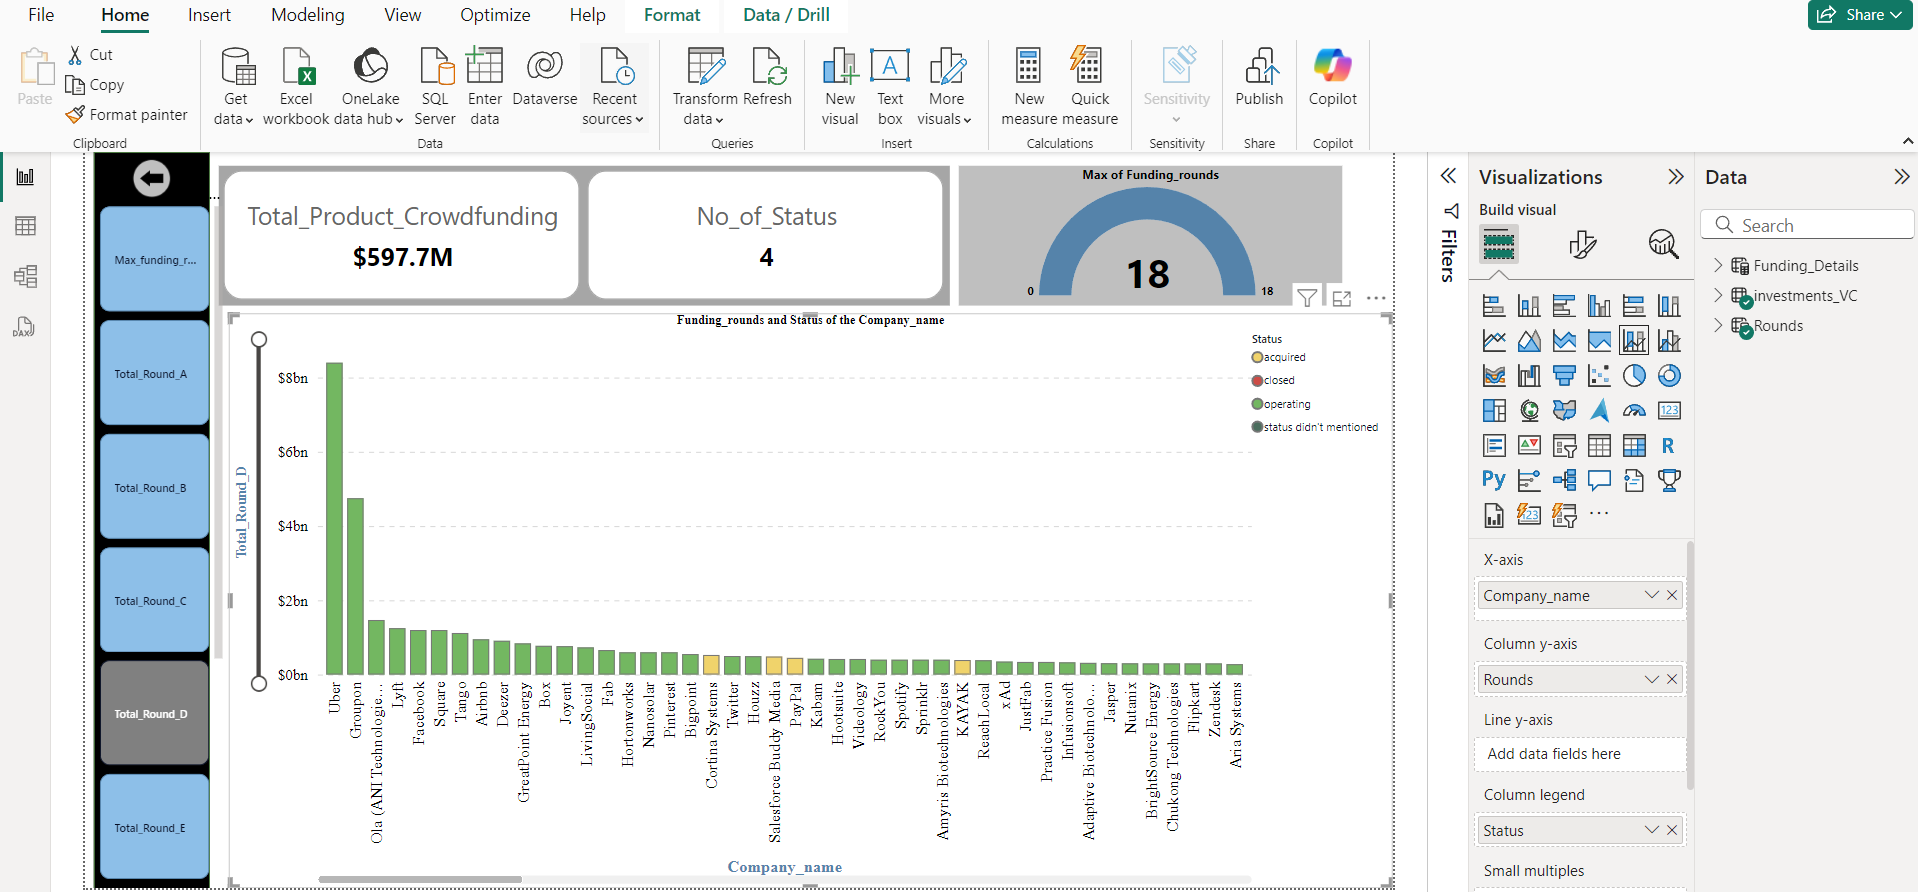

This screenshot's page, from the dashboard's own definition file:
{"tool":"powerbi","page":{"name":"Page 2","canvas":[1280,720],"ordinal":1},"visuals":[{"type":"shape","box":[9.2,0,113.7,1080.4],"z":0},{"type":"cardVisual","fields":{"Data":["investments_VC.Total_Product_Crowdfunding","investments_VC.Distinct"]},"box":[130.8,13.5,715.4,137],"z":1000},{"type":"kpi","box":[1287.6,34.9,533.8,394.4],"z":2000},{"type":"gauge","title":"Max of Funding_rounds","fields":{"Y":["Max(investments_VC.Funding_rounds)"],"MaxValue":["investments_VC.Max_funding_rounds"]},"box":[854.8,13.5,375.4,137],"z":3000},{"type":"lineStackedColumnComboChart","title":"Funding_rounds and Status of the Company_name","fields":{"Y":["investments_VC.Max_funding_rounds"],"Category":["investments_VC.Company_name"],"Series":["investments_VC.Status"]},"box":[140.8,157.1,1138.8,563.3],"z":4000},{"type":"advancedSlicerVisual","title":"Total Rounds with Companies","fields":{"Values":["Rounds.Rounds"]},"box":[10,35,130,685],"z":5000},{"type":"image","box":[41.6,0,47.7,51.4],"z":6000}]}

Visuals, with their boxes on the page's 1280x720 design canvas (x1, y1, x2, y2). These are canvas units, not pixel positions in the 1918x892 screenshot, which may show the page scaled, cropped or inside an application window:
shape: detection(9, 0, 123, 1080)
cardVisual - investments_VC.Total_Product_Crowdfunding x investments_VC.Distinct: detection(131, 14, 846, 150)
kpi: detection(1288, 35, 1821, 429)
"Max of Funding_rounds" gauge: detection(855, 14, 1230, 150)
"Funding_rounds and Status of the Company_name" lineStackedColumnComboChart: detection(141, 157, 1280, 720)
"Total Rounds with Companies" advancedSlicerVisual: detection(10, 35, 140, 720)
image: detection(42, 0, 89, 51)
